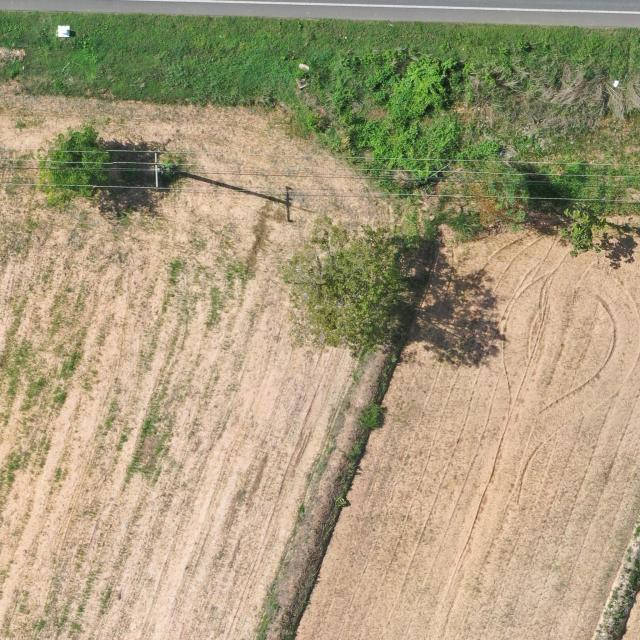Tree: (279, 217, 409, 361), (37, 124, 114, 210), (559, 205, 609, 262)
